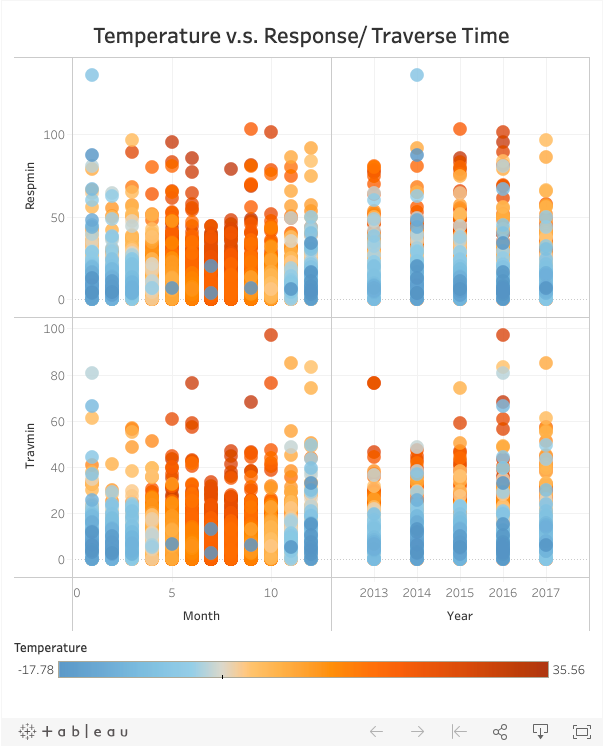

The page's visual inventory and layout, read from the dashboard file:
{"tool":"tableau","page":{"name":"Dashboard 1","canvas":[600,690],"ordinal":0},"visuals":[{"type":"worksheet","title":"Sheet 1","mark":"Shape","rows":["travmin","respmin"],"cols":["MONTH","year"],"box":[4.8,6.9,590.4,611.5]},{"type":"legend","title":"Sheet 1","param":"[federated.1r386280mhq0gq1dylxgv10yi3o3].[none:sevlev:qk]","box":[4.8,618.4,590.4,64.7]}]}

Visuals, with their boxes on the page's 600x690 design canvas (x1, y1, x2, y2). These are canvas units, not pixel positions in the 605x747 screenshot, which may show the page scaled, cropped or inside an application window:
"Sheet 1" worksheet (Shape marks): rect(5, 7, 595, 618)
"Sheet 1" legend: rect(5, 618, 595, 683)
